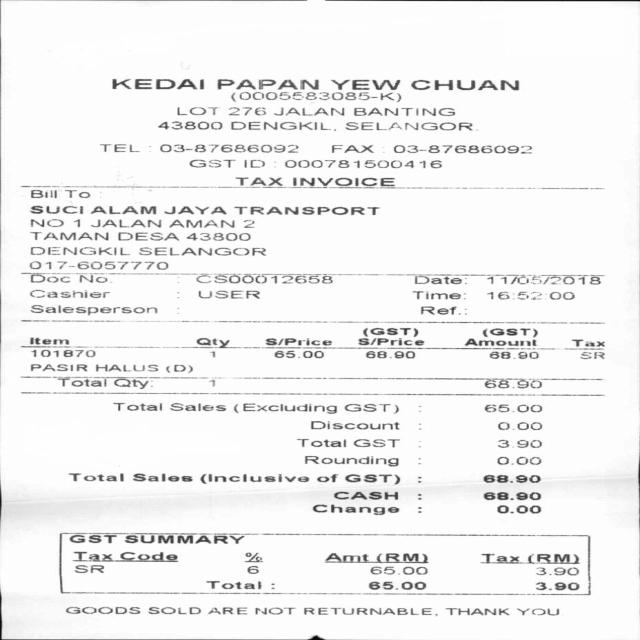text: (230, 91, 400, 102), (232, 205, 378, 215), (283, 159, 440, 168), (27, 260, 167, 270), (195, 274, 331, 284), (123, 533, 243, 544), (159, 144, 297, 153), (392, 144, 530, 153), (232, 403, 335, 415), (199, 473, 308, 484), (302, 607, 435, 616), (28, 304, 159, 313), (229, 120, 334, 131), (138, 247, 264, 256), (290, 176, 393, 187), (303, 455, 397, 467), (216, 79, 317, 90), (111, 78, 202, 90), (409, 80, 517, 90), (343, 122, 476, 130), (324, 553, 426, 563), (312, 504, 398, 515), (295, 438, 398, 447), (484, 276, 599, 284), (352, 107, 454, 116), (29, 246, 128, 255), (309, 420, 397, 430), (330, 78, 399, 90), (29, 289, 108, 298), (482, 378, 541, 390), (29, 231, 107, 240), (355, 336, 425, 346), (487, 292, 573, 300), (344, 473, 399, 485), (88, 205, 155, 214), (463, 338, 538, 346), (366, 580, 426, 590), (331, 491, 397, 500), (132, 472, 191, 482), (206, 580, 264, 590), (168, 219, 232, 228), (529, 552, 577, 564), (483, 326, 534, 337), (273, 107, 343, 115), (116, 232, 178, 241), (90, 219, 159, 227), (264, 338, 333, 346), (342, 403, 397, 413), (163, 205, 224, 214), (481, 473, 539, 482), (481, 491, 539, 500), (368, 566, 426, 575), (156, 121, 221, 129), (29, 204, 81, 214), (54, 378, 106, 388), (443, 607, 508, 615), (235, 176, 282, 187), (121, 551, 178, 560), (65, 607, 138, 614), (185, 233, 248, 241), (197, 290, 259, 298), (94, 364, 156, 372), (361, 327, 416, 336), (531, 581, 578, 591), (68, 534, 114, 544), (483, 404, 540, 412), (111, 402, 161, 411), (30, 363, 86, 371), (412, 275, 461, 284), (30, 350, 93, 357), (68, 473, 122, 481), (497, 438, 540, 448), (71, 550, 114, 560), (411, 291, 464, 299), (170, 403, 223, 411), (418, 305, 456, 316), (363, 350, 414, 358), (564, 339, 604, 349), (273, 350, 323, 358), (148, 606, 198, 614), (497, 421, 540, 430), (535, 567, 578, 576), (175, 106, 217, 115), (187, 159, 234, 167), (193, 337, 230, 347), (111, 378, 148, 388), (331, 144, 372, 153), (30, 274, 70, 283), (26, 337, 71, 345), (495, 456, 540, 464), (495, 505, 540, 513), (482, 554, 521, 563), (487, 351, 537, 358), (516, 608, 557, 616), (253, 607, 293, 615), (28, 218, 62, 227), (227, 107, 265, 115), (99, 144, 137, 152), (207, 607, 245, 615), (76, 274, 107, 283), (73, 564, 103, 573), (63, 189, 89, 198), (165, 364, 191, 373), (28, 190, 55, 198), (315, 473, 337, 482), (244, 159, 264, 168), (242, 552, 260, 562), (580, 352, 604, 359), (246, 565, 257, 574), (243, 220, 253, 228), (207, 378, 216, 386), (72, 218, 78, 227), (210, 351, 216, 357)
